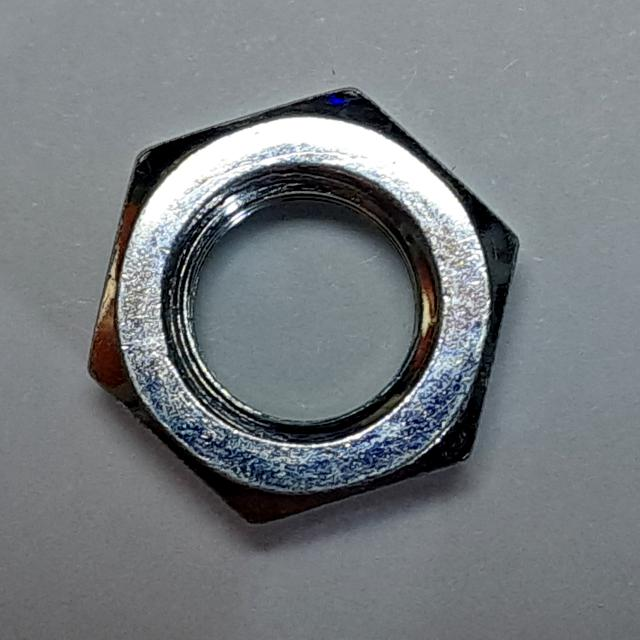Excellent: (72, 72, 533, 542)
